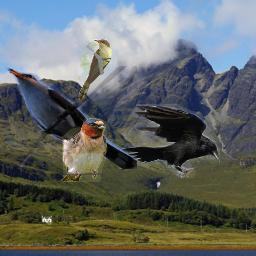Crow: (119, 104, 220, 178)
Cuckoo: (5, 66, 137, 169), (78, 39, 112, 100)
Swallow: (61, 118, 108, 182)
